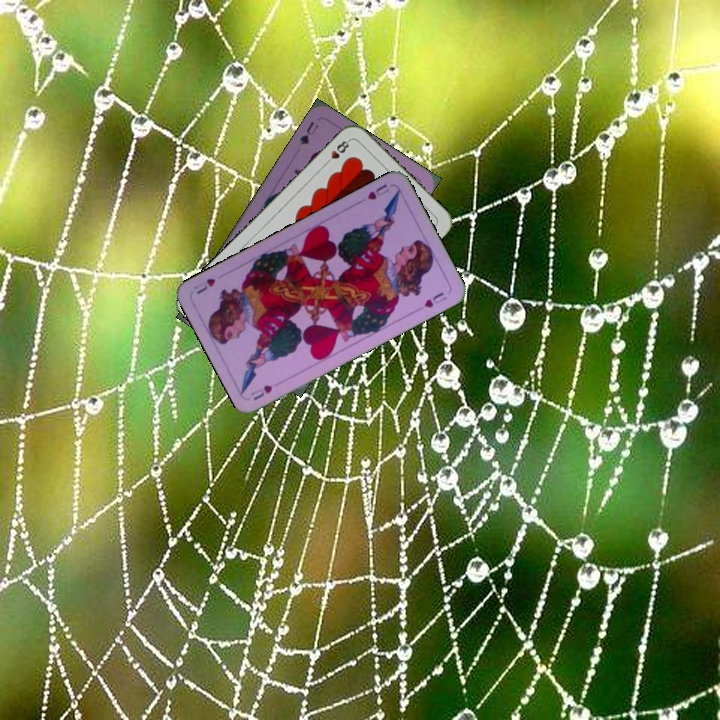GU: (295, 117, 321, 148)
H8: (321, 135, 353, 168)
HU: (363, 180, 392, 203), (247, 381, 275, 403)
